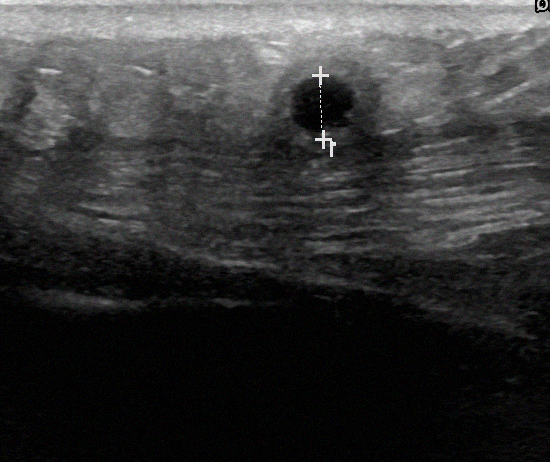Benign: (284, 66, 359, 150)
